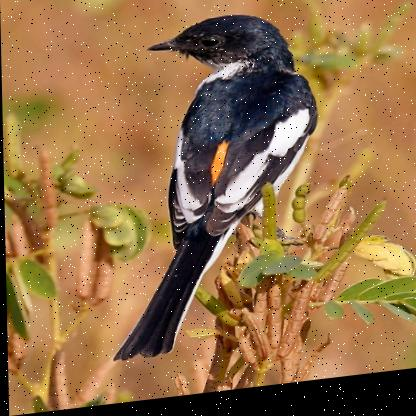Burung: (107, 12, 321, 365)
